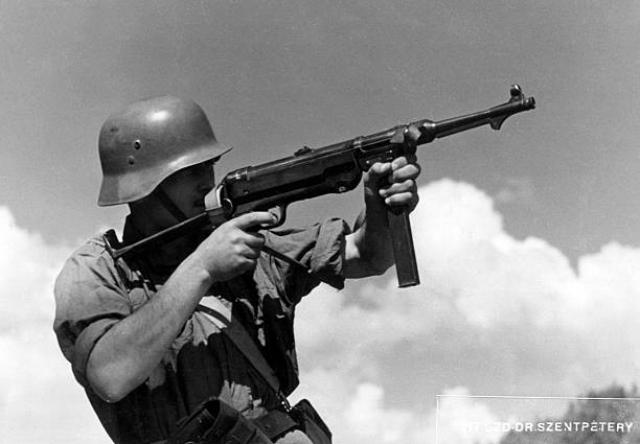other: (68, 100, 316, 442)
